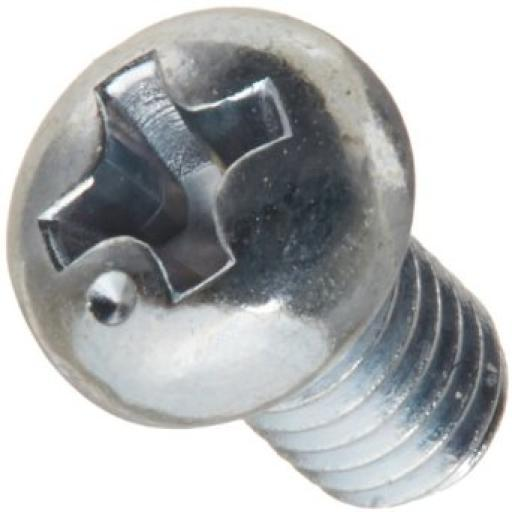Phillips: (2, 4, 426, 425)
